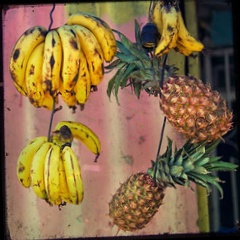Pineapple: (106, 28, 235, 144), (109, 132, 237, 231)
